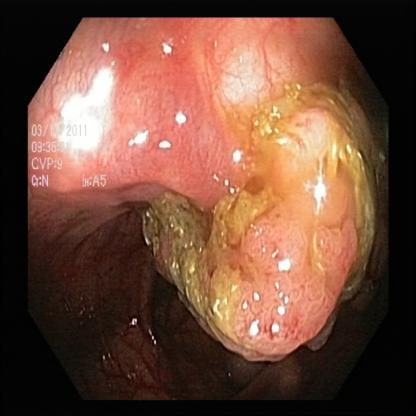Labels: (29, 116, 120, 194)
Polyps: (236, 100, 372, 360), (138, 184, 236, 352)
